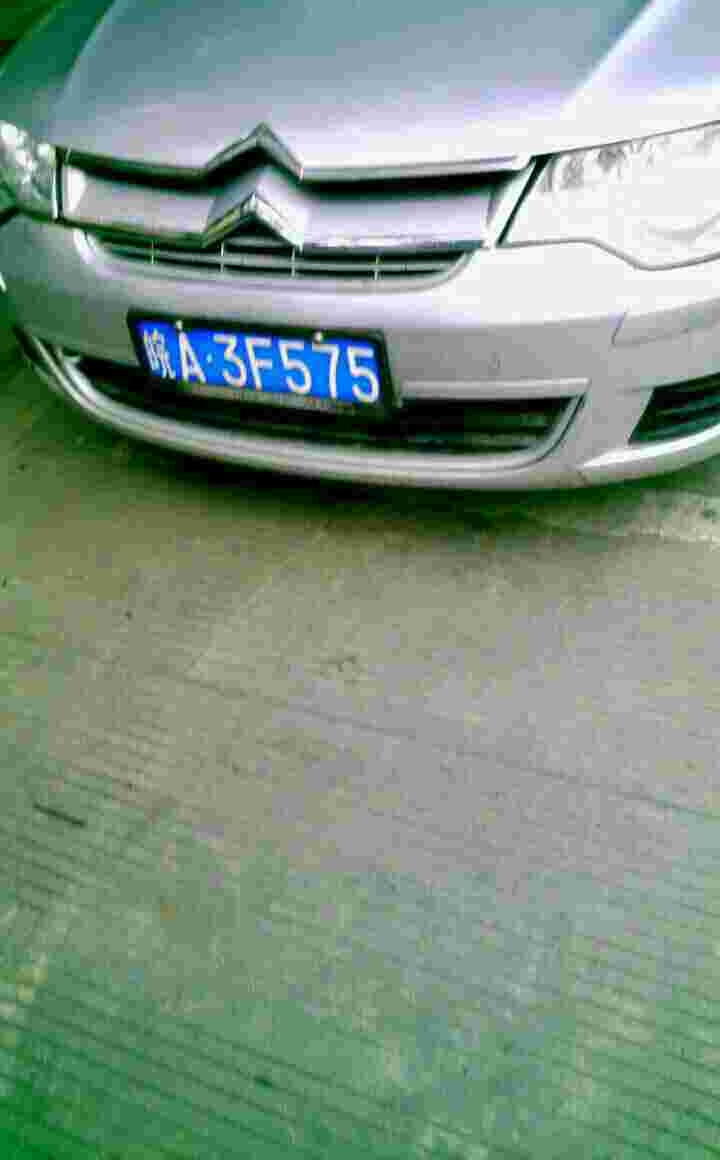license_plate: (135, 324, 392, 404)
